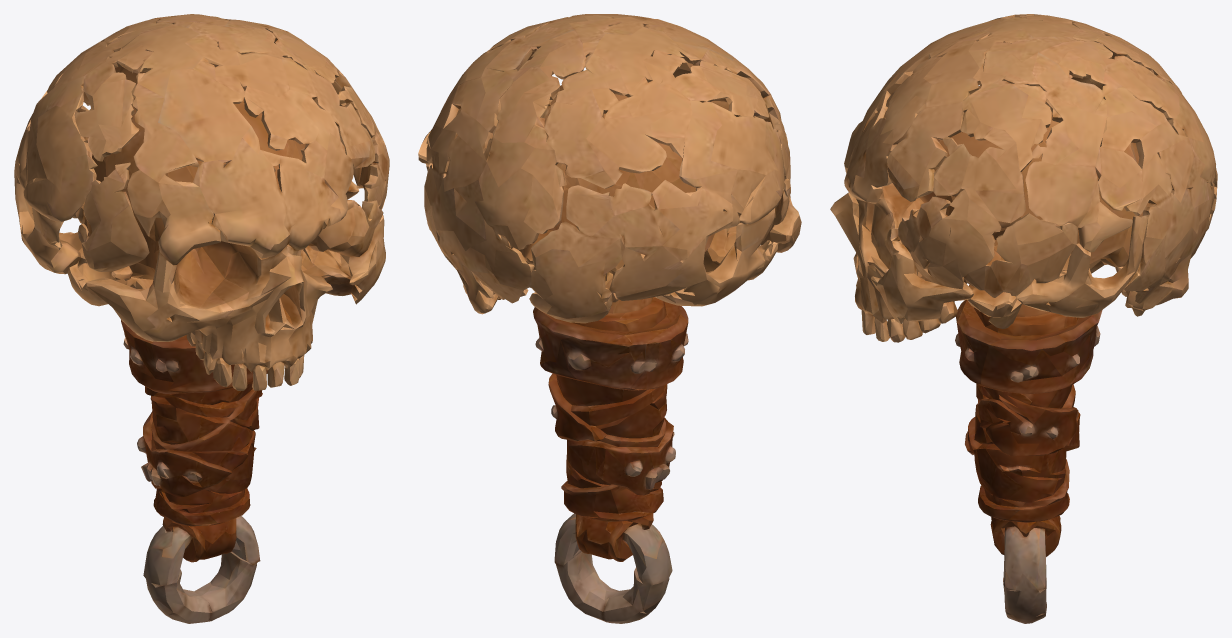
Rendered from skull-mace.glb.
The picture shows the model from 3 angles, left to right: view 1: azimuth 30°, elevation 25°; view 2: azimuth 150°, elevation 25°; view 3: azimuth 270°, elevation 25°; orthographic projection.
Visible parts, largest first — view 1: Mesh_0; view 2: Mesh_0; view 3: Mesh_0.
Boxes of the visible parts, x1,y1,x2,y2 form: Mesh_0: [14, 14, 389, 623]; Mesh_0: [418, 14, 801, 623]; Mesh_0: [830, 14, 1217, 623].
Bounding box in the file's own units: 1.1 × 1.9 × 1.15.
Materials: 1 (1 with a texture image).
